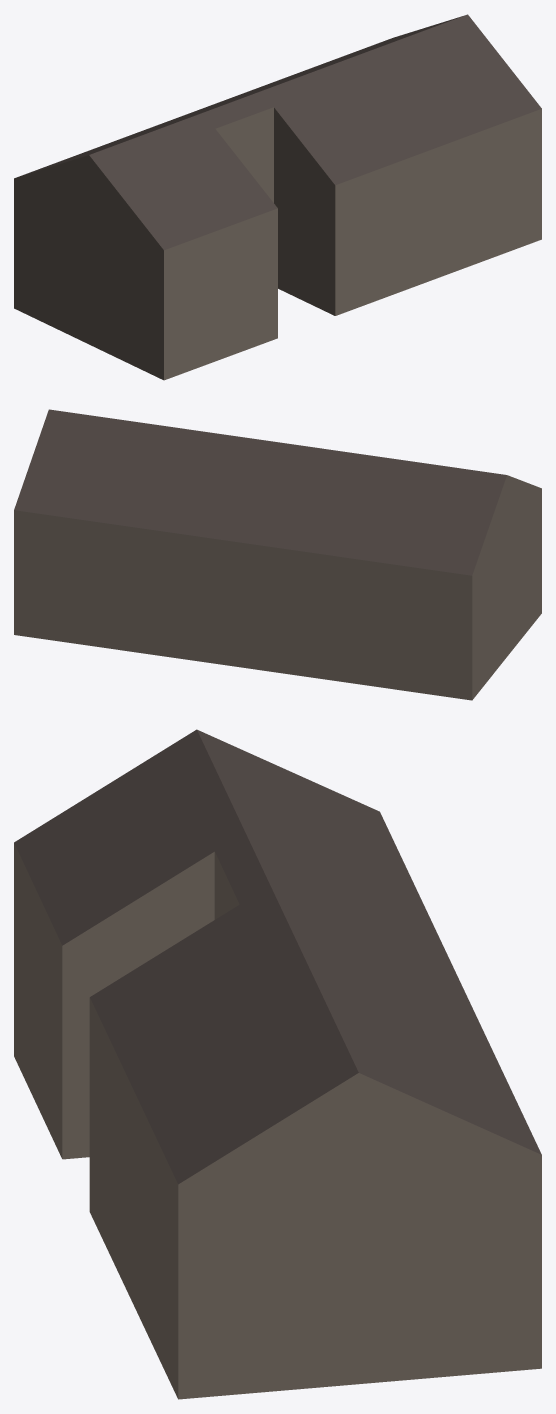
The picture shows the model from 3 angles, top to bottom: view 1: azimuth 30°, elevation 25°; view 2: azimuth 150°, elevation 25°; view 3: azimuth 270°, elevation 25°; orthographic projection. The views are drawn at different scales.
Visible parts, largest first — view 1: HP-w1365659895; view 2: HP-w1365659895; view 3: HP-w1365659895.
Boxes of the visible parts, <box> form: HP-w1365659895: <box>14,14,541,380</box>; HP-w1365659895: <box>14,409,541,700</box>; HP-w1365659895: <box>14,729,541,1399</box>.
Bounding box in the file's own units: 22.53 × 8.74 × 13.44.
